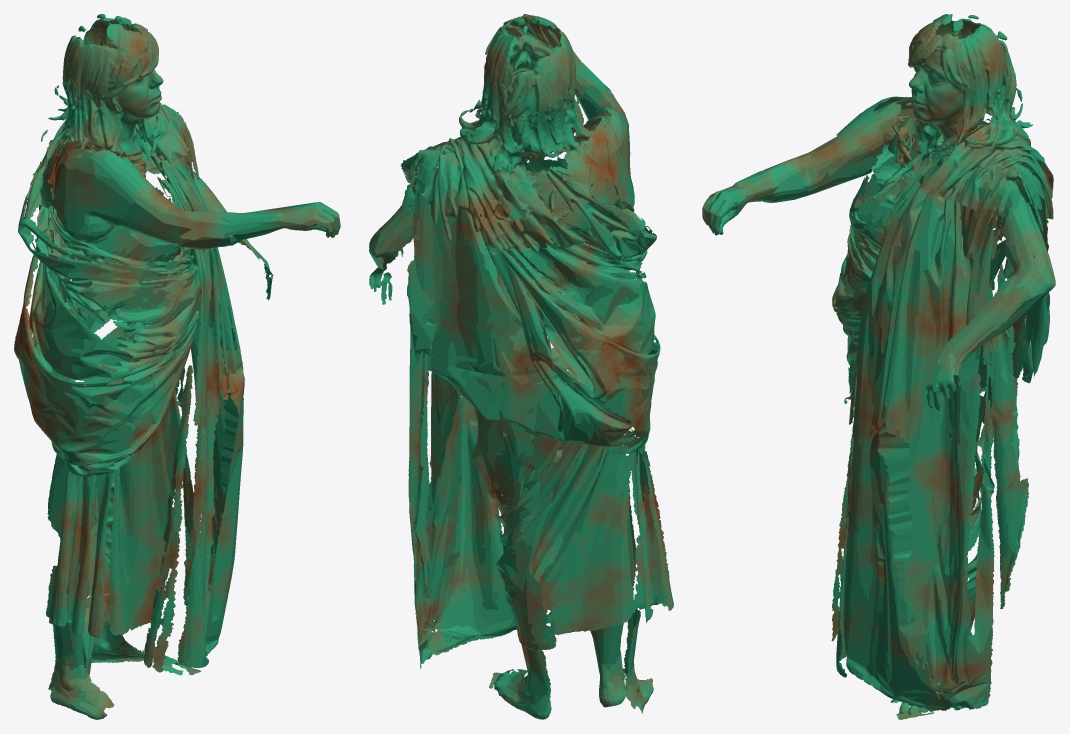
The model's file is anaModelo.glb.
3 renders of one model, left to right at view 1: azimuth 30°, elevation 25°; view 2: azimuth 150°, elevation 25°; view 3: azimuth 270°, elevation 25°, orthographic. The views are drawn at different scales.
Parts seen in each view (by area): view 1: braco_02.001; view 2: braco_02.001; view 3: braco_02.001.
Part boxes in pixels (x1,y1,x2,y2): braco_02.001: [14, 14, 340, 719]; braco_02.001: [369, 14, 673, 719]; braco_02.001: [702, 14, 1055, 719].
Bounding box in the file's own units: 135 × 330 × 157.
Materials: 1 (1 with a texture image).
